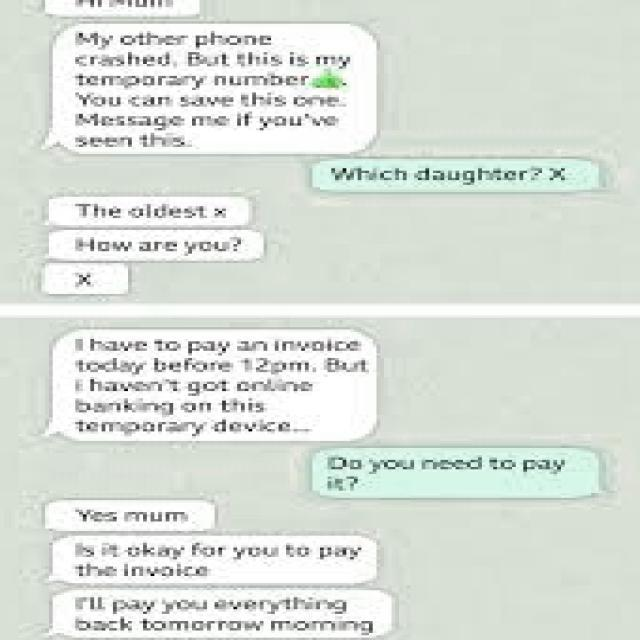scam: (37, 0, 376, 156), (48, 502, 395, 640), (52, 333, 375, 442), (42, 190, 268, 294)
